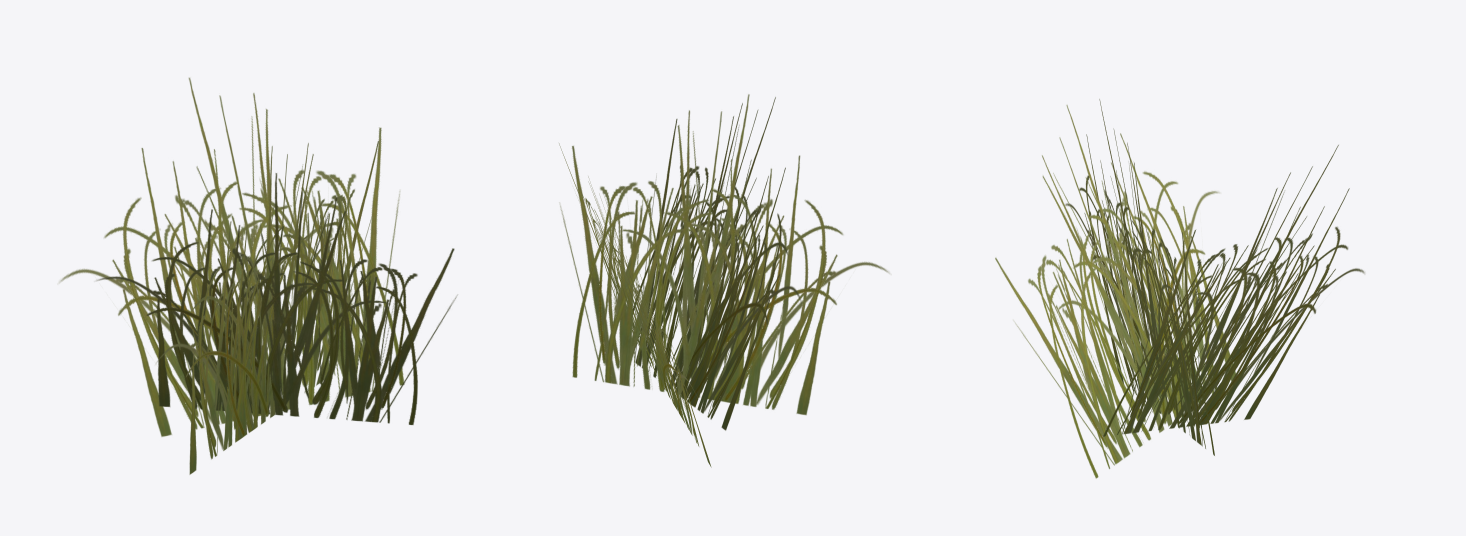
Rendered from grass_model.glb.
The picture shows the model from 3 angles, left to right: view 1: azimuth 30°, elevation 25°; view 2: azimuth 150°, elevation 25°; view 3: azimuth 270°, elevation 25°; orthographic projection. The views are drawn at different scales.
Visible parts, largest first — view 1: grass.001, grass, grass.002; view 2: grass.002, grass.001, grass; view 3: grass.001, grass, grass.002.
Boxes of the visible parts, x1,y1,x2,y2 form: grass.001: [96, 173, 457, 424]; grass: [59, 77, 404, 436]; grass.002: [156, 141, 378, 474]; grass.002: [559, 94, 889, 415]; grass.001: [632, 97, 800, 430]; grass: [559, 143, 711, 467]; grass.001: [995, 105, 1235, 478]; grass: [1103, 145, 1364, 436]; grass.002: [1065, 99, 1214, 455].
Size of the model in its own units: 1.97 by 2.36 by 2.62.
1 material, 1 textured.
